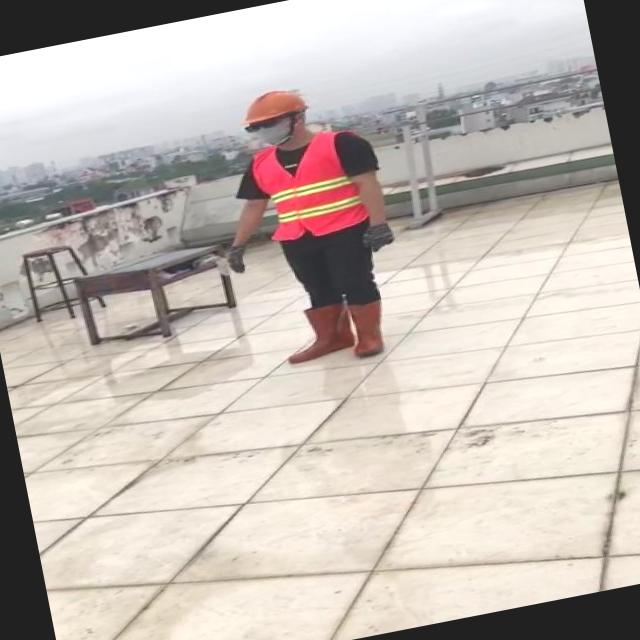boots: (280, 300, 356, 362), (345, 296, 392, 363)
gloves: (361, 210, 408, 264), (218, 225, 253, 280)
helmet: (237, 82, 314, 128)
vest: (251, 125, 371, 245)
